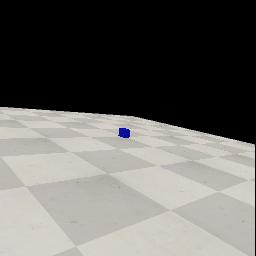box: (118, 128, 130, 138)
